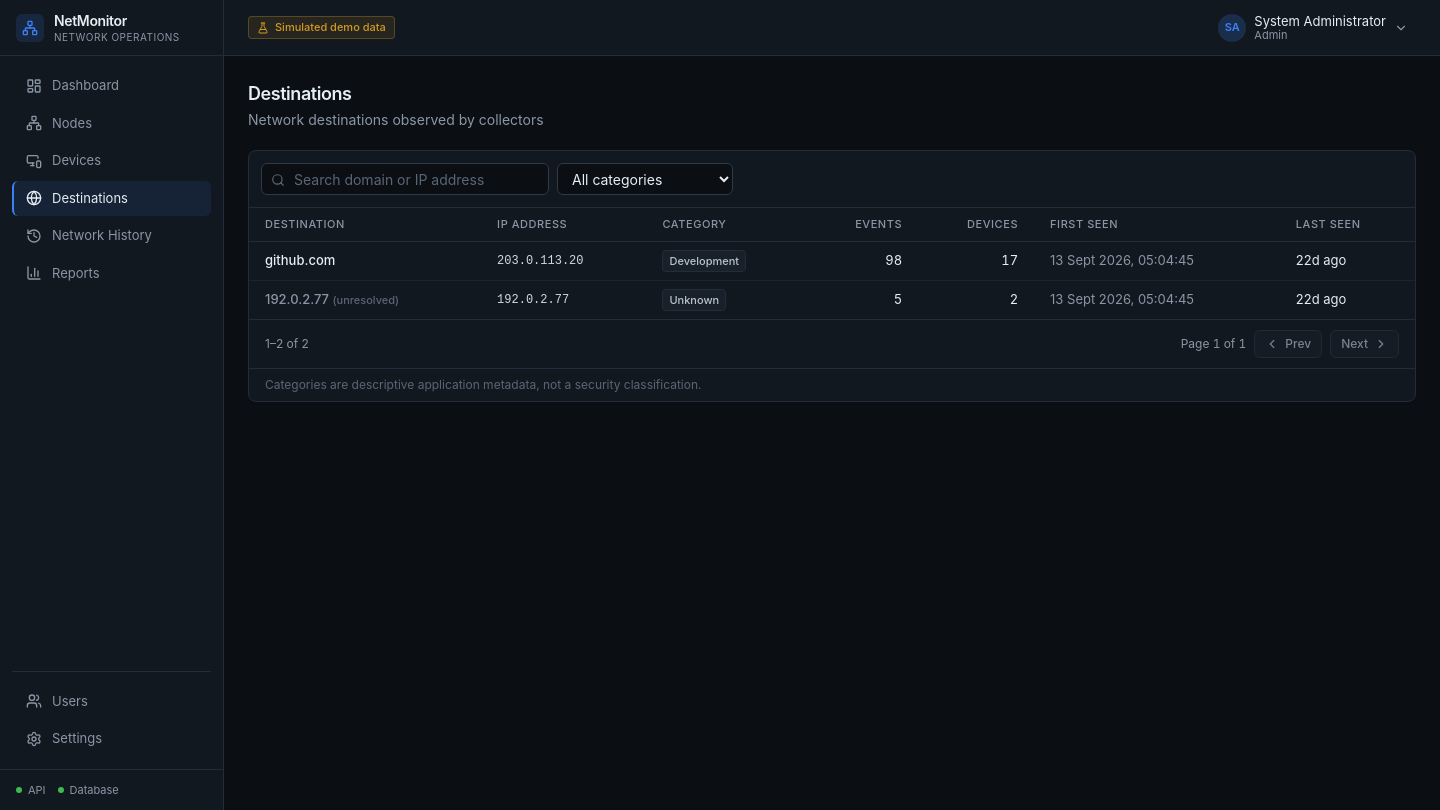
Test: DestinationsPage › opens the investigation page from a row
Click the row "github.com" at (832, 260), box [249,241,1415,280]
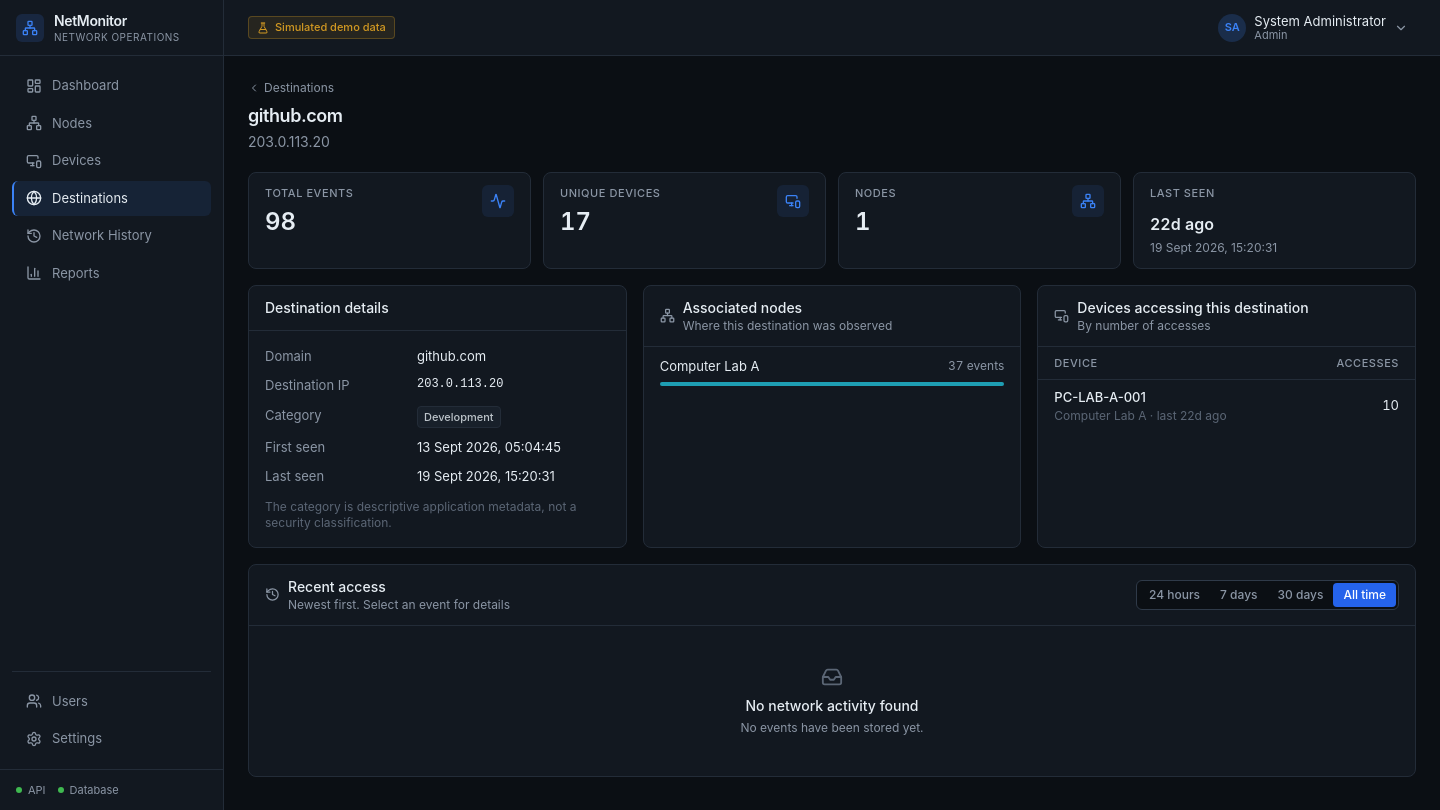
Check: the heading "github.com" is shown, box [248,102,342,130]
